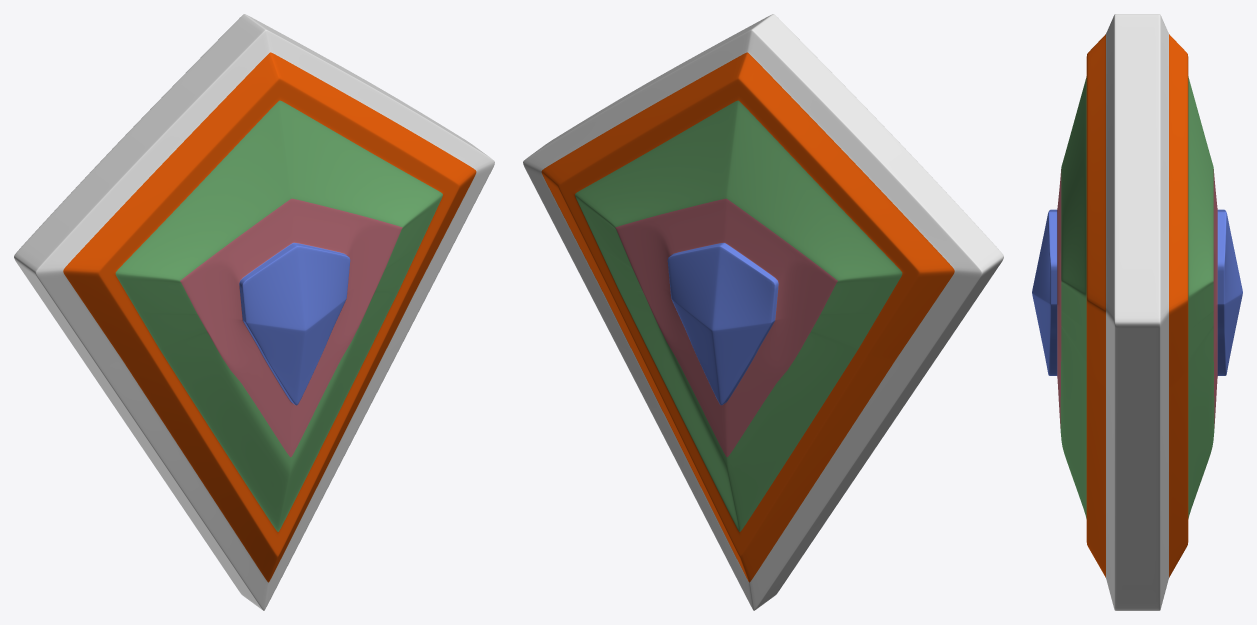
The model's file is Cursor_1.fbx.
3 renders of one model, left to right at view 1: azimuth 30°, elevation 25°; view 2: azimuth 150°, elevation 25°; view 3: azimuth 270°, elevation 25°, orthographic. The views are drawn at different scales.
Parts seen in each view (by area): view 1: Cursor; view 2: Cursor; view 3: Cursor.
Part boxes in pixels (x1=…): Cursor: x1=14, y1=14, x2=494, y2=610; Cursor: x1=523, y1=14, x2=1003, y2=610; Cursor: x1=1032, y1=14, x2=1242, y2=610.
Bounding box in the file's own units: 57.67 × 69.67 × 22.28.
